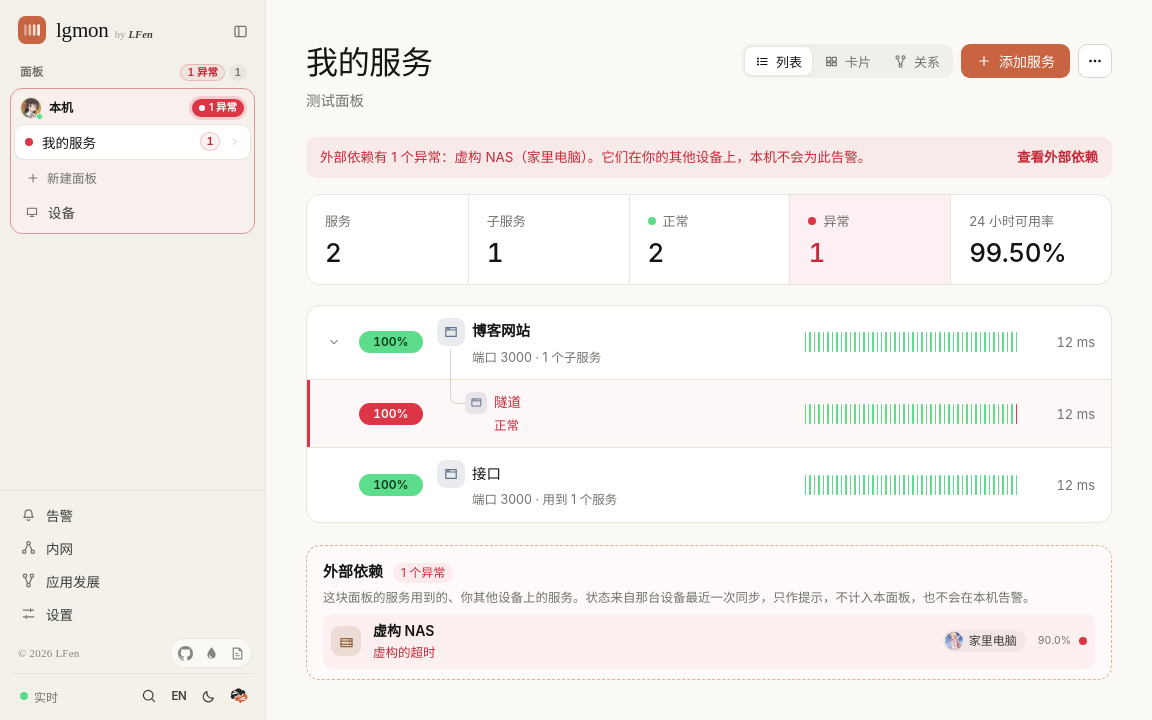
Test: keeps services on other devices in their own block and warns about them without changing the board
This screenshot has width=1152, height=720.
Expected: the list named "服务列表" is shown, [306,304,1112,523]
Expected: the message shows "外部依赖有 1 个异常：虚构 NAS（家里电脑）", [320,149,871,165]
On the map it is a node of its own, marked external, red while down, linked from the service using it.
Click the button "关系": click(916, 61) [883,47,950,75]
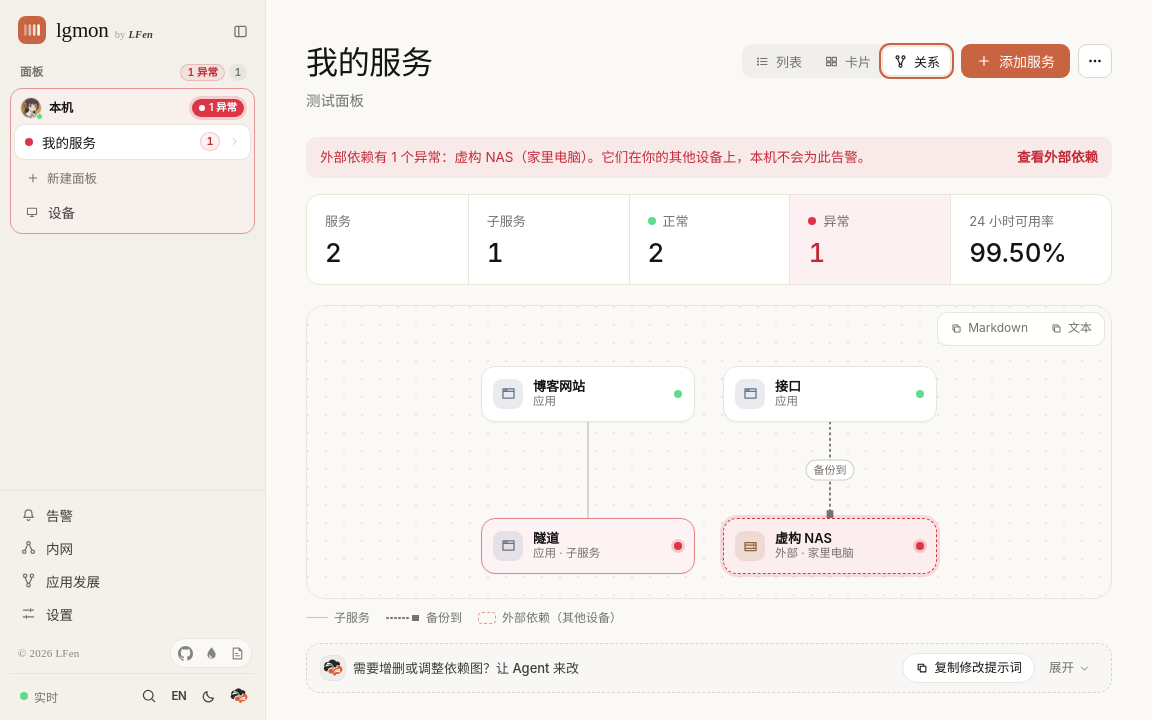
Result: the link "虚构 NAS 外部 · 家里电脑" is shown at [723,518,937,574]
Result: the text "外部依赖（其他设备）" is shown at [478,608,622,627]
